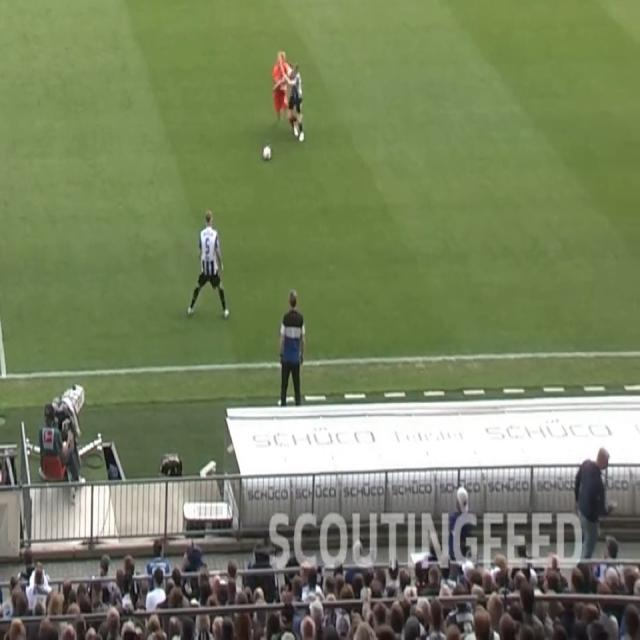ball: (262, 143, 272, 162)
